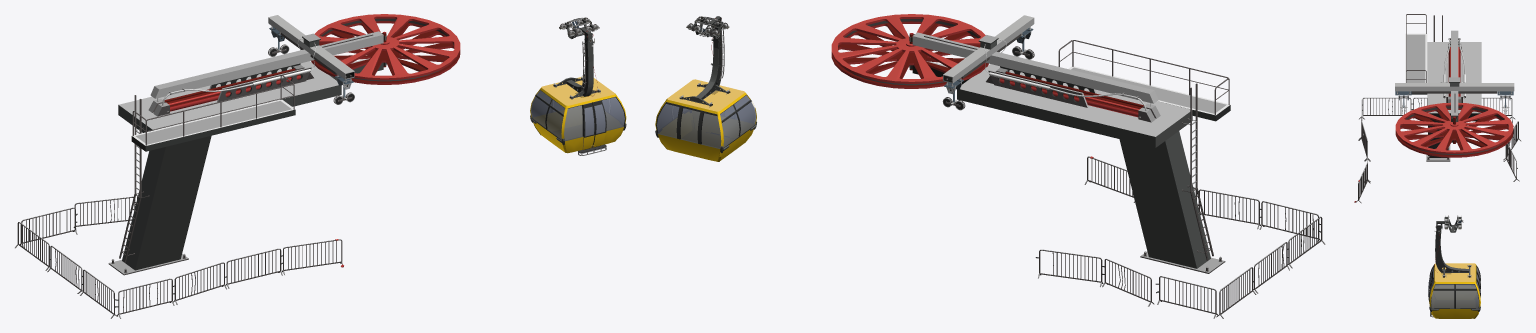
Rendered from gondola.glb.
3 renders of one model, left to right at view 1: azimuth 30°, elevation 25°; view 2: azimuth 150°, elevation 25°; view 3: azimuth 270°, elevation 25°, orthographic. The views are drawn at different scales.
Visible parts, largest first — view 1: stand, platform, wheel_top, cabin, bridge, cross_long, wheel_bottom, cross_short, door (×2), pillars (×2), pCube72, arc_03 (+2 smaller); view 2: stand, platform, cabin, wheel_top, cross_long, wheel_bottom, bridge, cross_short, pCube72, arc_03, stairway_upper, big_pipe (+1 smaller); view 3: wheel_top, cabin, platform, wheel_bottom, bridge, cross_short, pillars (×4), cross_long, polySurface43, wheel_med, cross_shorter, frame (+2 smaller).
Boxes of the visible parts, x1,y1,x2,y2 form: stand: [122, 135, 211, 270]; platform: [118, 58, 383, 132]; wheel_top: [314, 14, 460, 80]; cabin: [530, 76, 626, 153]; bridge: [131, 99, 295, 151]; cross_long: [150, 31, 383, 98]; wheel_bottom: [311, 21, 460, 84]; cross_short: [268, 15, 354, 79]; door (×2): [582, 100, 606, 149]; pillars (×2): [55, 249, 276, 288]; pCube72: [217, 67, 311, 102]; arc_03: [146, 84, 294, 136]; stand: [1119, 131, 1210, 268]; platform: [912, 61, 1192, 147]; cabin: [655, 79, 756, 161]; wheel_top: [831, 14, 985, 83]; cross_long: [912, 32, 1158, 103]; wheel_bottom: [831, 21, 988, 88]; bridge: [1068, 66, 1230, 121]; cross_short: [943, 15, 1034, 83]; pCube72: [988, 70, 1088, 107]; arc_03: [1073, 40, 1228, 95]; stairway_upper: [1190, 83, 1197, 192]; big_pipe: [999, 78, 1138, 117]; wheel_top: [1395, 102, 1513, 153]; cabin: [1429, 263, 1480, 318]; platform: [1427, 42, 1481, 142]; wheel_bottom: [1395, 108, 1513, 157]; bridge: [1405, 33, 1427, 94]; cross_short: [1395, 83, 1514, 91]; pillars (×4): [1359, 98, 1517, 198]; cross_long: [1451, 30, 1458, 121]; polySurface43: [1435, 225, 1468, 272]; wheel_med: [1400, 106, 1508, 154]; cross_shorter: [1412, 91, 1497, 93]; frame: [1362, 97, 1411, 115].
Size of the model in its own units: 83.15 by 24.78 by 27.79.
